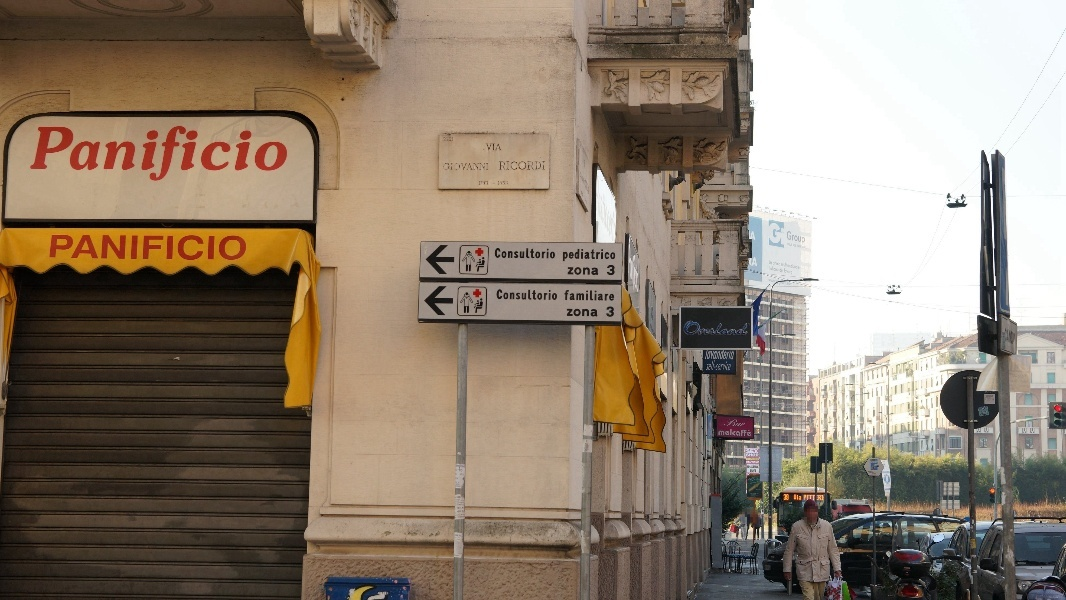text: (49, 125, 64, 185), (65, 125, 80, 185), (81, 125, 96, 185), (97, 125, 112, 185), (113, 125, 128, 185), (129, 125, 144, 185), (145, 125, 160, 185), (161, 125, 176, 185), (177, 125, 192, 185), (193, 125, 208, 185), (209, 125, 224, 185), (225, 125, 240, 185), (241, 125, 256, 185), (257, 125, 272, 185), (273, 125, 288, 185), (39, 125, 48, 185), (598, 191, 608, 242), (630, 244, 640, 295), (609, 191, 617, 242), (65, 236, 80, 262), (81, 236, 96, 262), (97, 236, 112, 262), (113, 236, 128, 262), (129, 236, 144, 262), (145, 236, 160, 262), (161, 236, 176, 262), (177, 236, 192, 262), (193, 236, 208, 262), (209, 236, 224, 262), (225, 236, 240, 262), (769, 223, 784, 246), (51, 236, 64, 262), (581, 173, 592, 195), (289, 125, 293, 185), (689, 321, 704, 336), (705, 321, 720, 336), (721, 321, 736, 336), (737, 321, 751, 336), (577, 249, 592, 262), (593, 249, 608, 262), (241, 236, 248, 262), (497, 289, 512, 301), (513, 289, 528, 301), (529, 289, 544, 301), (577, 289, 592, 301), (593, 289, 608, 301), (788, 231, 800, 246), (563, 249, 576, 262), (497, 248, 512, 259), (513, 248, 528, 259), (529, 248, 544, 259), (721, 350, 736, 360), (545, 289, 557, 301), (513, 162, 528, 171), (529, 162, 544, 171), (577, 267, 592, 276), (577, 309, 592, 318), (565, 289, 576, 301), (707, 350, 720, 360), (449, 163, 464, 171), (465, 163, 480, 171), (708, 361, 720, 371), (721, 429, 736, 437), (737, 429, 752, 437), (785, 262, 800, 270), (499, 162, 512, 171), (1009, 329, 1016, 345), (545, 248, 555, 259), (721, 361, 732, 371), (785, 268, 800, 275), (737, 417, 747, 427), (609, 249, 616, 262), (769, 266, 784, 272), (567, 267, 576, 276), (567, 309, 576, 318), (486, 144, 496, 152), (481, 181, 496, 186), (769, 260, 784, 265), (804, 495, 816, 501), (788, 243, 800, 249), (609, 265, 615, 276), (481, 163, 489, 171), (497, 181, 509, 186), (609, 289, 614, 301), (609, 306, 614, 318), (801, 231, 805, 246), (769, 279, 784, 283), (773, 261, 784, 266), (593, 267, 599, 276), (731, 417, 736, 427), (769, 454, 779, 459), (753, 257, 758, 267), (593, 309, 598, 318), (817, 495, 824, 501), (497, 144, 502, 152), (605, 306, 608, 318), (794, 495, 800, 501), (801, 243, 807, 249), (444, 163, 448, 171), (785, 282, 793, 286), (1006, 329, 1008, 345), (686, 321, 688, 336), (746, 449, 752, 454), (753, 449, 759, 454), (870, 459, 880, 462), (749, 231, 752, 241), (753, 231, 756, 241), (749, 257, 752, 267), (769, 474, 778, 477), (769, 468, 778, 471), (763, 454, 768, 459), (785, 495, 789, 501), (753, 454, 760, 457), (780, 268, 784, 273), (779, 282, 784, 286), (746, 458, 752, 461), (753, 458, 759, 461), (753, 461, 759, 464), (753, 466, 759, 469), (782, 262, 784, 270), (747, 454, 752, 457), (747, 461, 752, 464), (747, 466, 752, 469), (753, 469, 757, 472), (764, 468, 768, 471), (495, 248, 496, 259), (607, 265, 608, 276), (545, 162, 546, 171), (765, 474, 768, 477), (719, 429, 720, 437), (750, 469, 752, 472), (783, 495, 784, 501), (801, 495, 802, 501), (479, 181, 480, 186)
